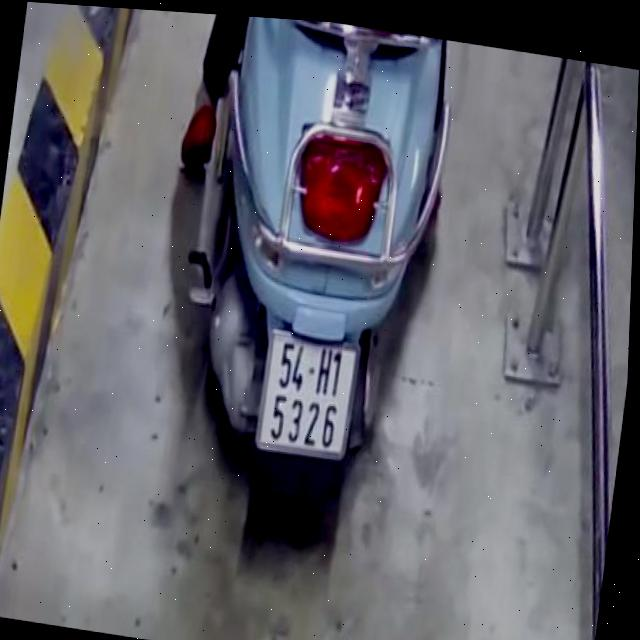motorcycle: (160, 12, 465, 515)
plate: (251, 323, 366, 467)
